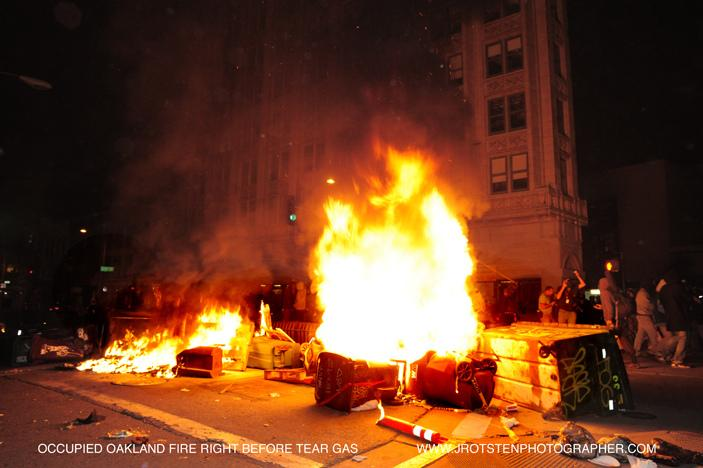fire: (318, 228, 476, 355), (95, 339, 175, 376), (195, 310, 238, 349)
